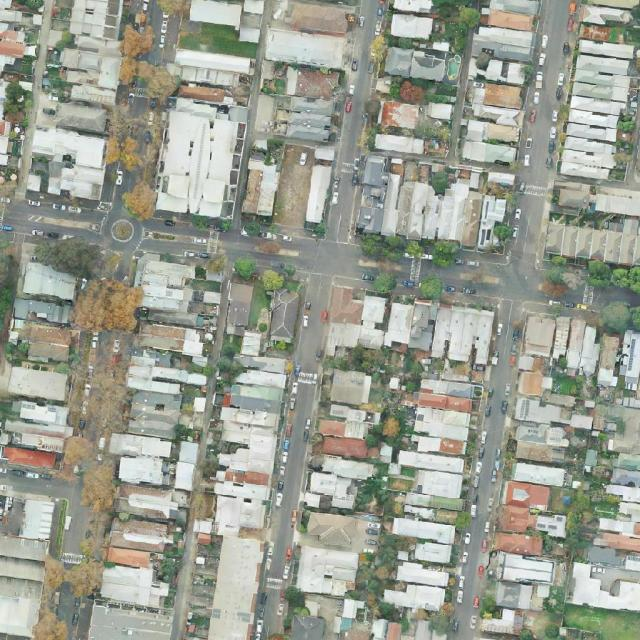building: (350, 154, 511, 260), (152, 94, 250, 221), (560, 38, 636, 183), (517, 309, 640, 394), (209, 406, 280, 540), (382, 294, 496, 366), (311, 364, 391, 465), (295, 512, 381, 599), (495, 463, 570, 558), (100, 517, 177, 609), (511, 370, 598, 450), (208, 535, 266, 640), (29, 126, 109, 200), (462, 81, 527, 166), (54, 32, 125, 107), (410, 377, 474, 457), (11, 259, 82, 331), (382, 552, 455, 621), (326, 285, 390, 361), (0, 395, 78, 456), (123, 365, 184, 440), (130, 251, 198, 316), (303, 451, 371, 516), (254, 93, 340, 143), (103, 430, 173, 490), (381, 559, 451, 616), (169, 47, 255, 90), (393, 450, 465, 500), (230, 354, 289, 414), (495, 553, 555, 612), (5, 318, 75, 367), (89, 600, 174, 640), (388, 516, 457, 565), (383, 43, 463, 85), (136, 317, 208, 359), (113, 482, 180, 524), (241, 150, 281, 218), (514, 424, 570, 465), (7, 365, 70, 401), (265, 287, 301, 346), (468, 56, 527, 87), (329, 593, 367, 640), (54, 101, 108, 134), (286, 67, 340, 100), (223, 282, 254, 337), (0, 445, 60, 472), (306, 163, 332, 223), (612, 406, 640, 454), (390, 12, 434, 42), (173, 441, 199, 491), (404, 491, 465, 511), (580, 4, 633, 27), (152, 365, 207, 387), (402, 504, 458, 525), (379, 100, 420, 128), (480, 608, 524, 633), (375, 134, 425, 155), (515, 439, 555, 464), (0, 84, 12, 166), (333, 458, 374, 482), (130, 347, 173, 367), (178, 84, 225, 102), (102, 0, 122, 40), (240, 329, 263, 358), (403, 160, 432, 182), (427, 102, 453, 120), (505, 62, 526, 83), (487, 171, 516, 186), (485, 59, 505, 80), (196, 315, 218, 332), (313, 146, 336, 162), (592, 417, 616, 432), (26, 174, 43, 193), (201, 291, 222, 306), (378, 442, 393, 463), (262, 60, 276, 81), (389, 157, 404, 176), (22, 14, 43, 27), (585, 449, 599, 468), (206, 269, 224, 282), (0, 72, 12, 91), (469, 171, 481, 188), (6, 155, 20, 169), (24, 43, 36, 56), (582, 400, 597, 410), (18, 82, 33, 91)
greenland: (48, 426, 132, 522), (345, 528, 429, 624), (67, 329, 130, 455), (31, 228, 122, 285), (70, 273, 145, 341), (359, 231, 459, 268), (121, 108, 165, 180), (126, 53, 183, 107), (179, 20, 259, 58), (323, 341, 397, 376), (43, 556, 104, 598), (548, 356, 601, 402), (117, 24, 155, 86), (548, 487, 622, 518), (379, 391, 415, 450), (118, 178, 164, 224), (389, 77, 457, 107), (585, 258, 640, 294), (354, 470, 393, 517), (0, 241, 18, 332), (368, 30, 414, 60), (216, 336, 242, 389), (106, 106, 129, 164), (565, 511, 594, 556), (425, 598, 456, 636), (32, 608, 66, 639), (42, 64, 70, 101), (278, 602, 311, 632), (280, 582, 309, 612), (3, 53, 36, 75), (545, 256, 569, 286), (157, 556, 181, 584), (429, 164, 450, 194), (543, 585, 565, 613), (54, 29, 78, 54), (232, 257, 258, 280), (419, 277, 443, 301), (5, 342, 29, 365), (261, 269, 286, 291), (452, 509, 474, 534), (373, 272, 397, 293), (480, 594, 499, 619), (364, 424, 383, 448), (624, 25, 640, 46), (543, 621, 560, 640), (10, 131, 22, 156), (493, 223, 513, 238), (412, 608, 429, 620), (544, 535, 554, 554), (617, 121, 635, 131)
metalled_road: (443, 298, 532, 640), (259, 273, 336, 580), (503, 0, 579, 266), (325, 0, 382, 243), (230, 0, 274, 228), (446, 27, 477, 160), (54, 581, 95, 640), (208, 279, 233, 369), (198, 374, 217, 463), (100, 166, 134, 209), (597, 165, 640, 191), (265, 590, 284, 633), (252, 131, 287, 151), (555, 172, 602, 185), (286, 138, 319, 147), (135, 95, 149, 112)
